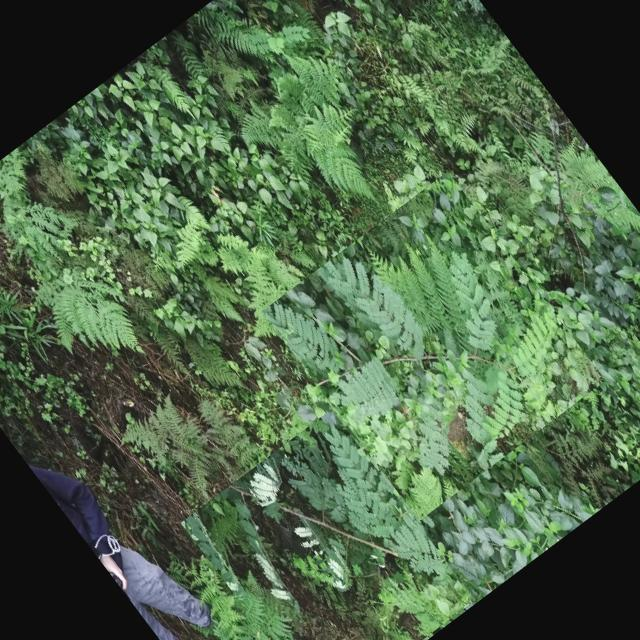Mysore-Thorn-Weed: (262, 171, 606, 520), (180, 408, 475, 640)
